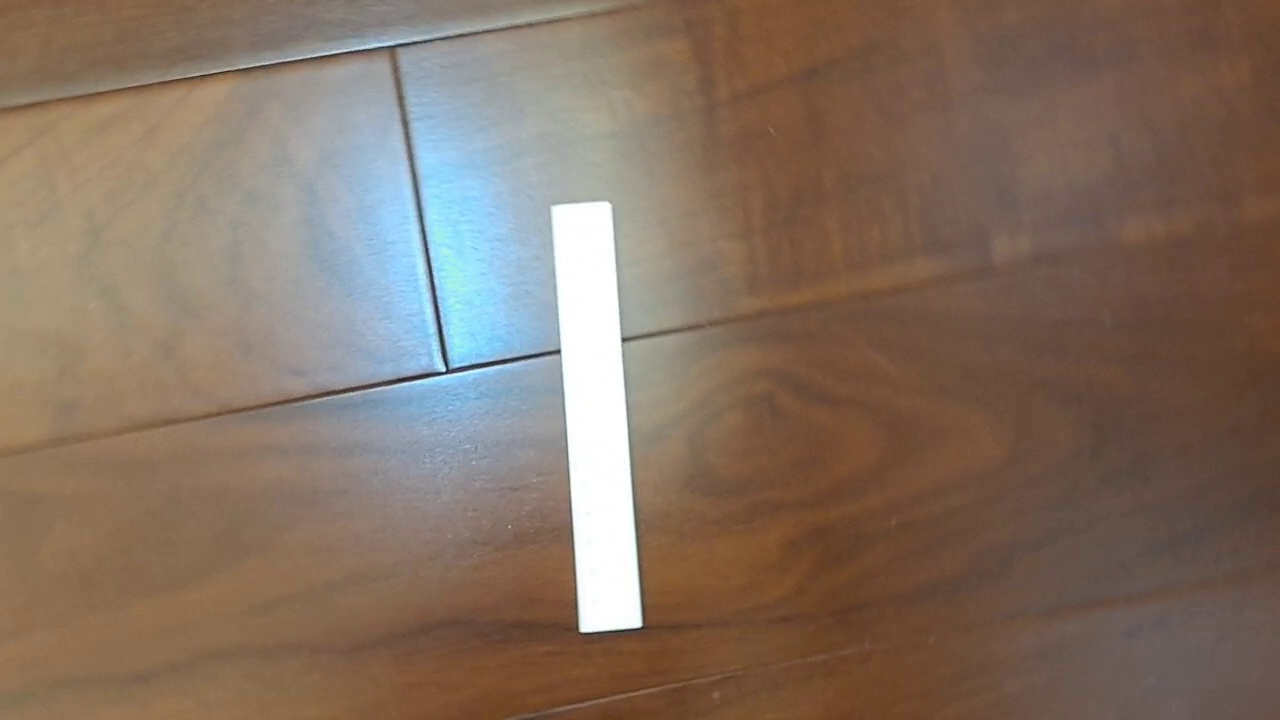ruler: (549, 199, 646, 635)
